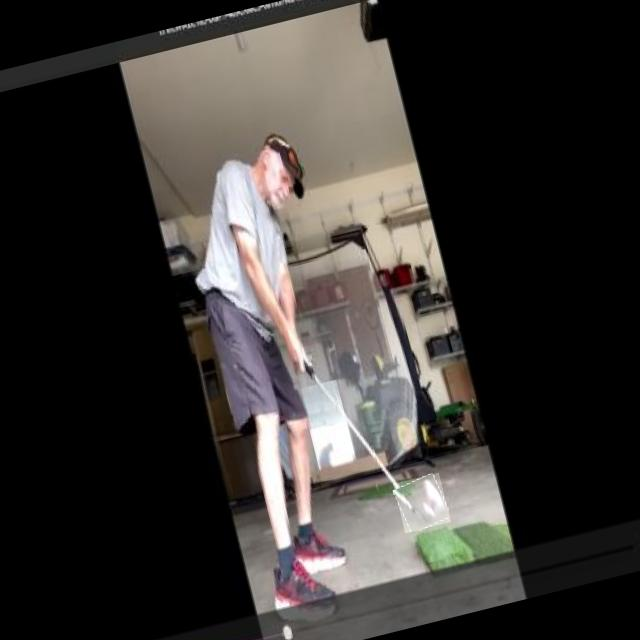club head: (392, 472, 450, 533)
